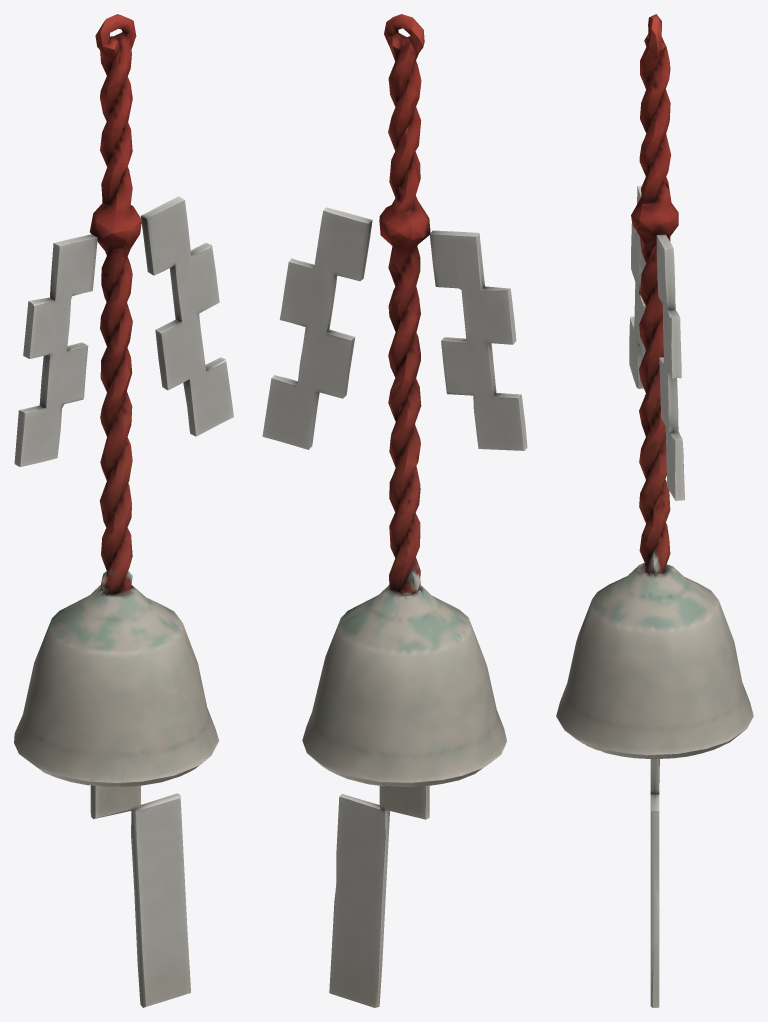
File: great_lantern_hang.glb
3 renders of one model, left to right at view 1: azimuth 30°, elevation 25°; view 2: azimuth 150°, elevation 25°; view 3: azimuth 270°, elevation 25°, orthographic. The views are drawn at different scales.
Visible parts, largest first — view 1: great_lantern_hang_LOD0; view 2: great_lantern_hang_LOD0; view 3: great_lantern_hang_LOD0.
Part boxes in pixels (<box>): great_lantern_hang_LOD0: <box>14,14,233,1007</box>; great_lantern_hang_LOD0: <box>262,14,527,1007</box>; great_lantern_hang_LOD0: <box>556,14,753,1007</box>.
Size of what is drawn, in the model's own units: 0.249 by 0.9933 by 0.1854.
Materials: 3 (3 with a texture image).
